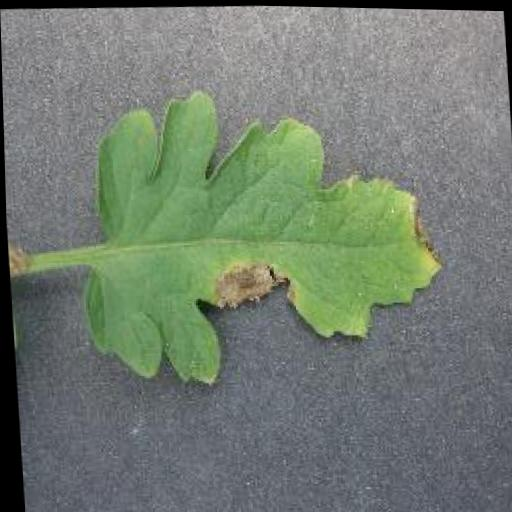Late Blight: (70, 81, 452, 395)
